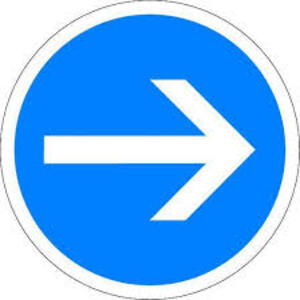trun_right: (2, 1, 300, 299)
